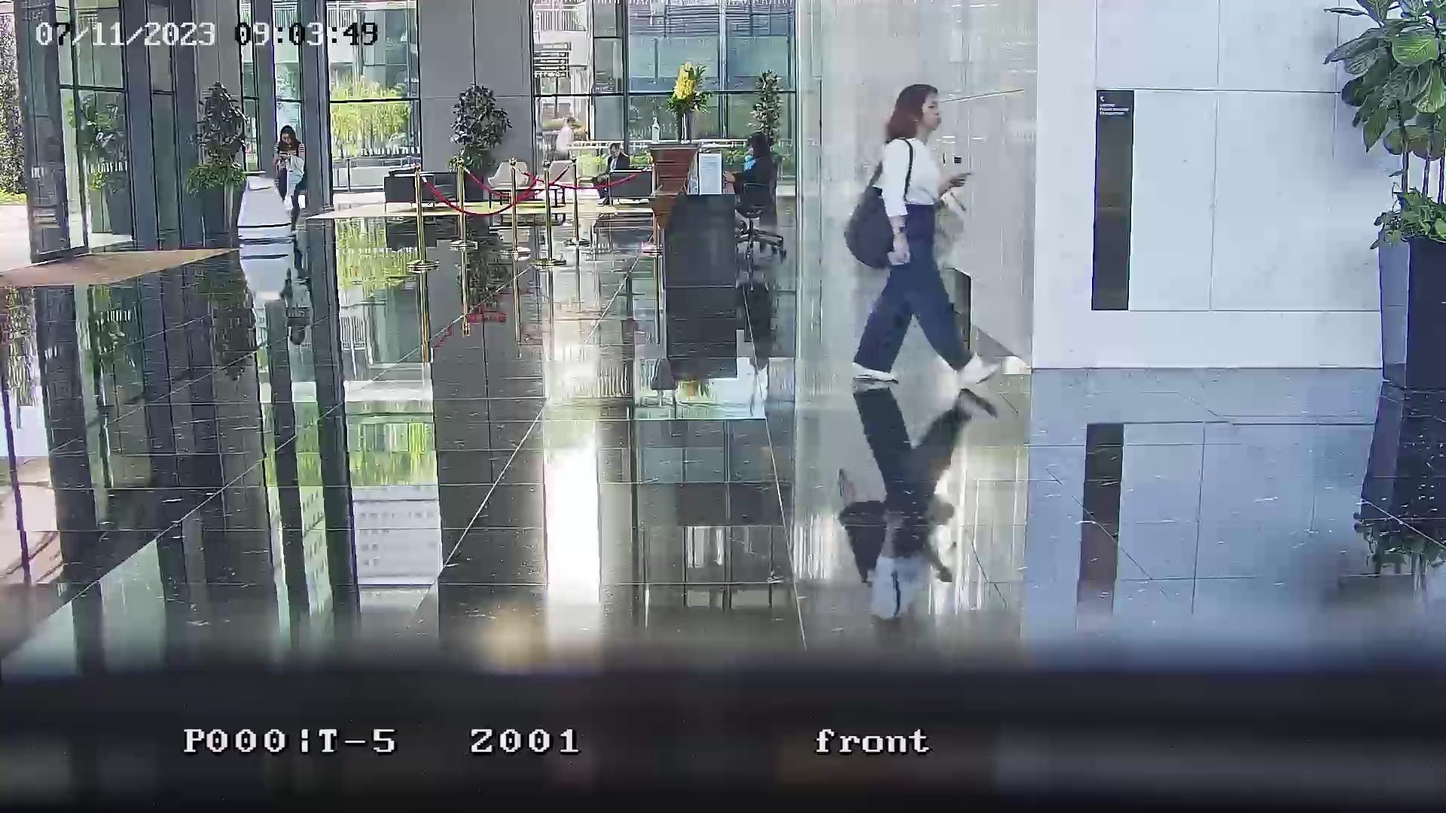person: (850, 82, 1001, 389), (737, 133, 778, 225), (273, 125, 307, 214), (590, 142, 632, 204)
